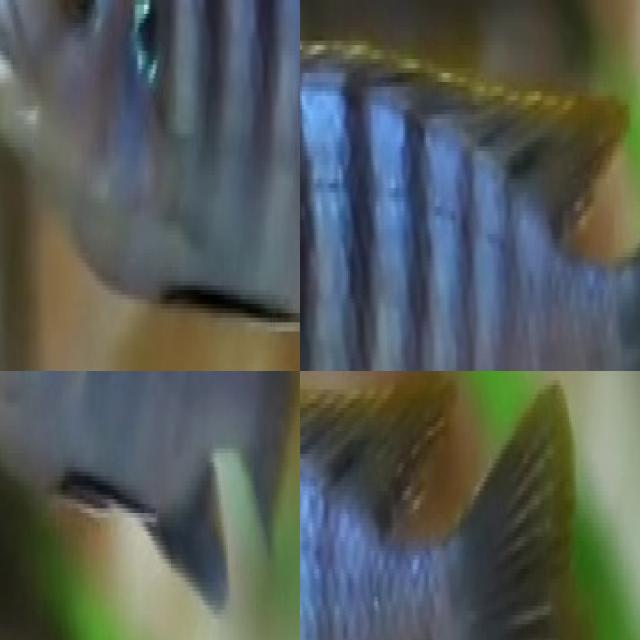fish: (0, 0, 300, 371), (300, 371, 618, 640)
